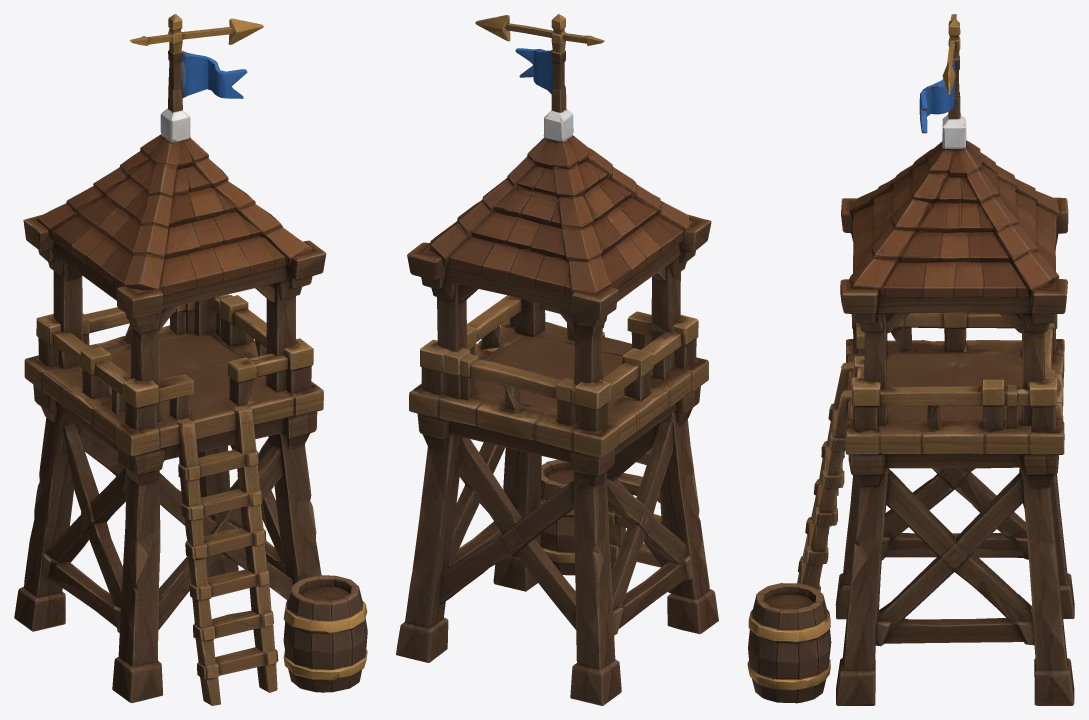
The model's file is tower_ai.glb.
3 renders of one model, left to right at view 1: azimuth 30°, elevation 25°; view 2: azimuth 150°, elevation 25°; view 3: azimuth 270°, elevation 25°, orthographic.
Visible parts, largest first — view 1: output_unwrapped; view 2: output_unwrapped; view 3: output_unwrapped.
Part boxes in pixels (x1,y1,x2,y2): output_unwrapped: [14, 14, 367, 705]; output_unwrapped: [396, 14, 718, 705]; output_unwrapped: [747, 14, 1074, 705].
Size of the model in its own units: 2.5 by 7.1 by 3.32.
Materials: 1 (1 with a texture image).
